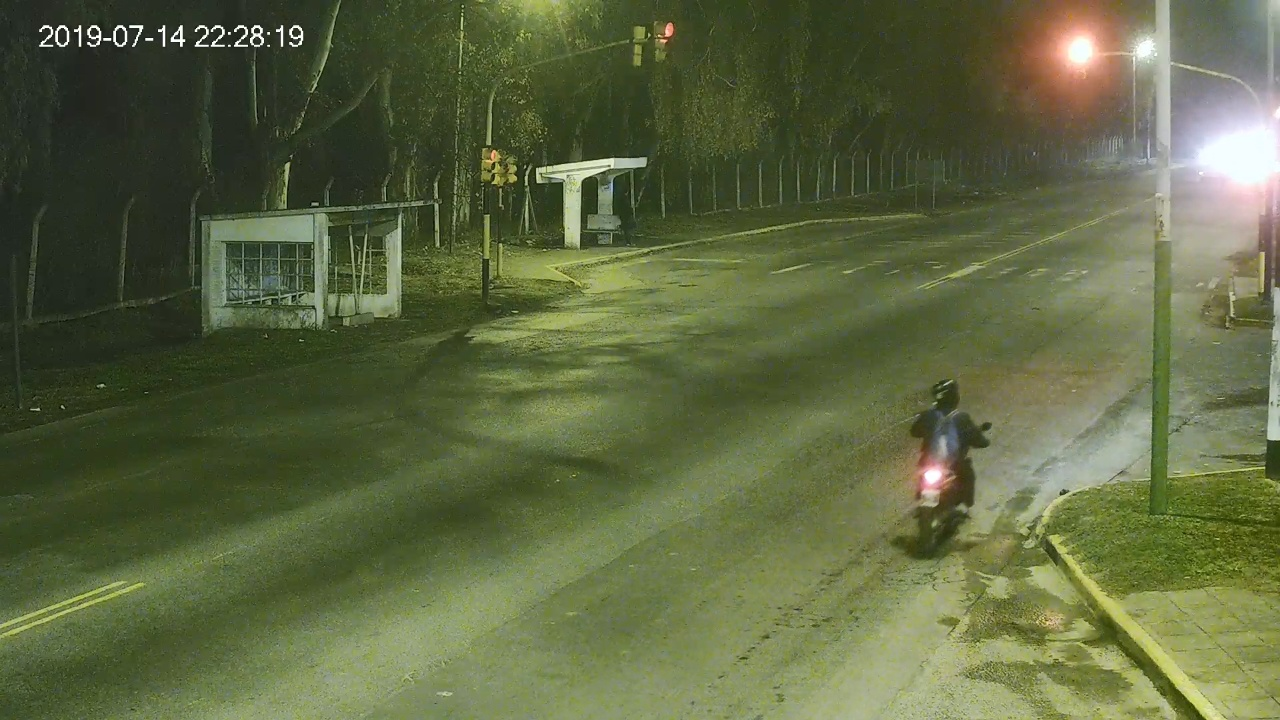motorcycle: (910, 419, 992, 553)
traffic light: (1070, 38, 1086, 79)
